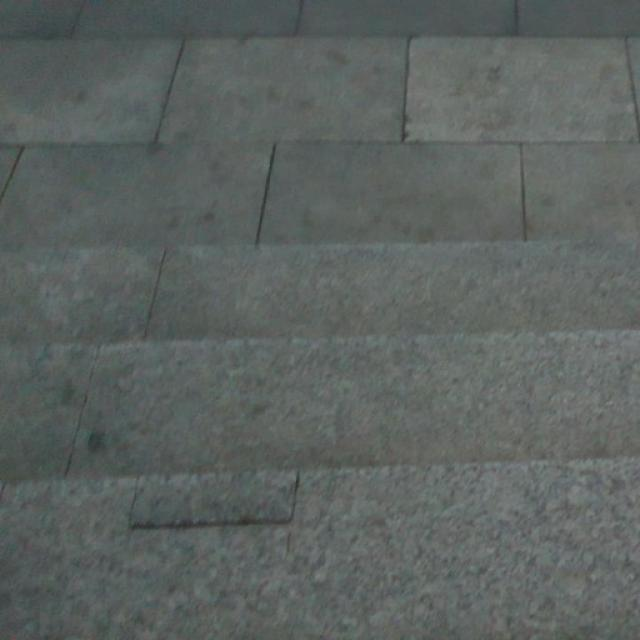stair: (10, 225, 640, 608)
